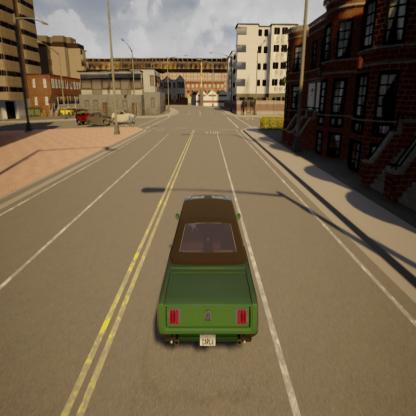Cars: (154, 192, 261, 348), (87, 107, 113, 126), (112, 105, 136, 125), (74, 107, 93, 126)
